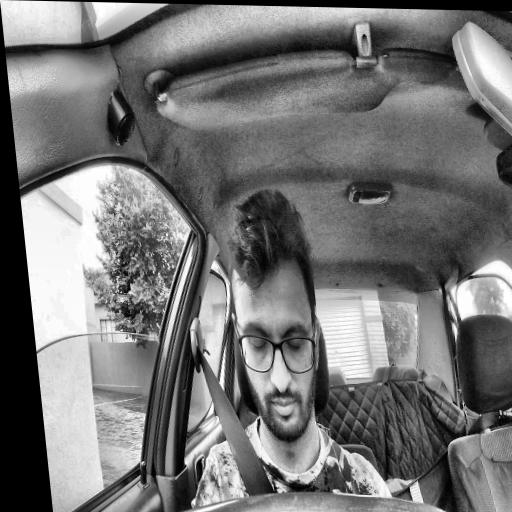drowsy: (217, 188, 333, 445)
